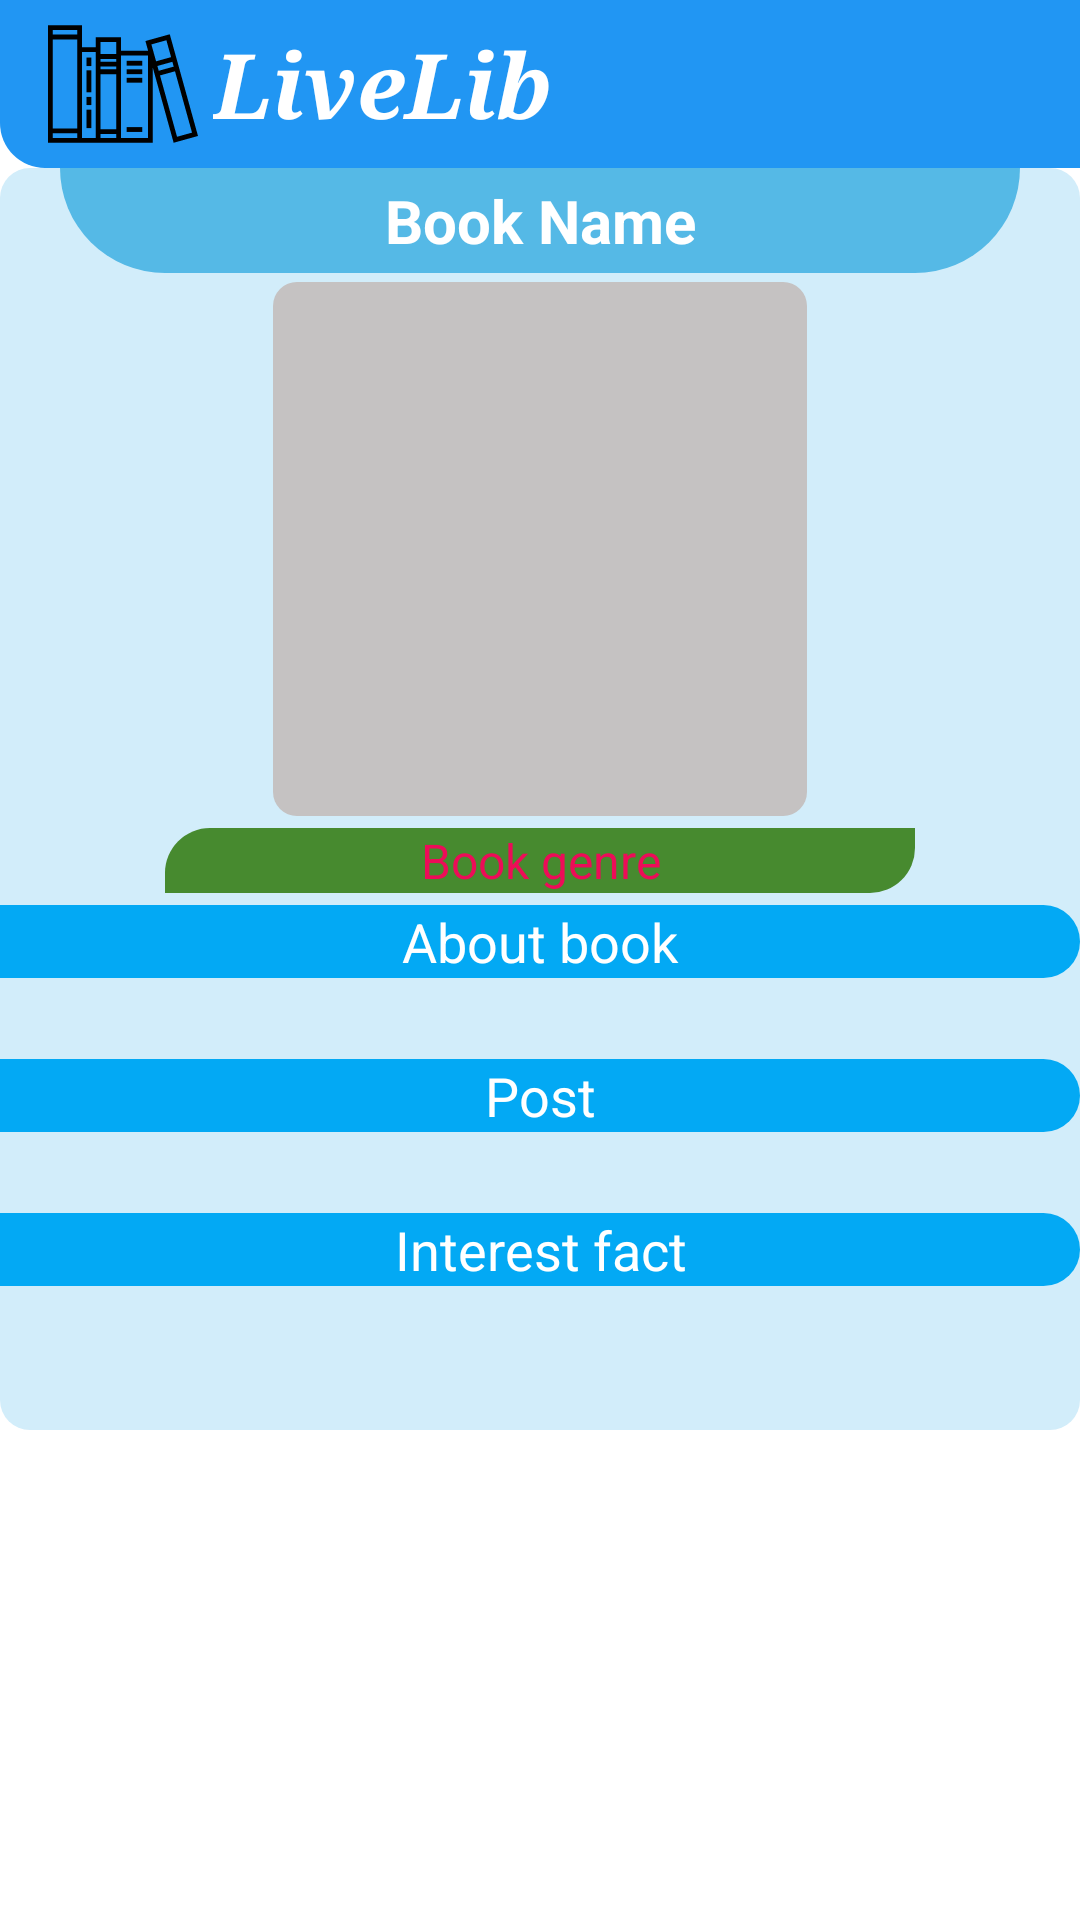

Where to tap for icons on this 1080x1920 app screen, as [x,y]:
books: [123,84]
